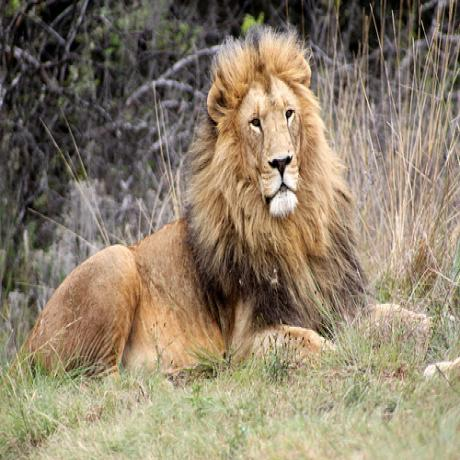Lion: (29, 28, 368, 363)
